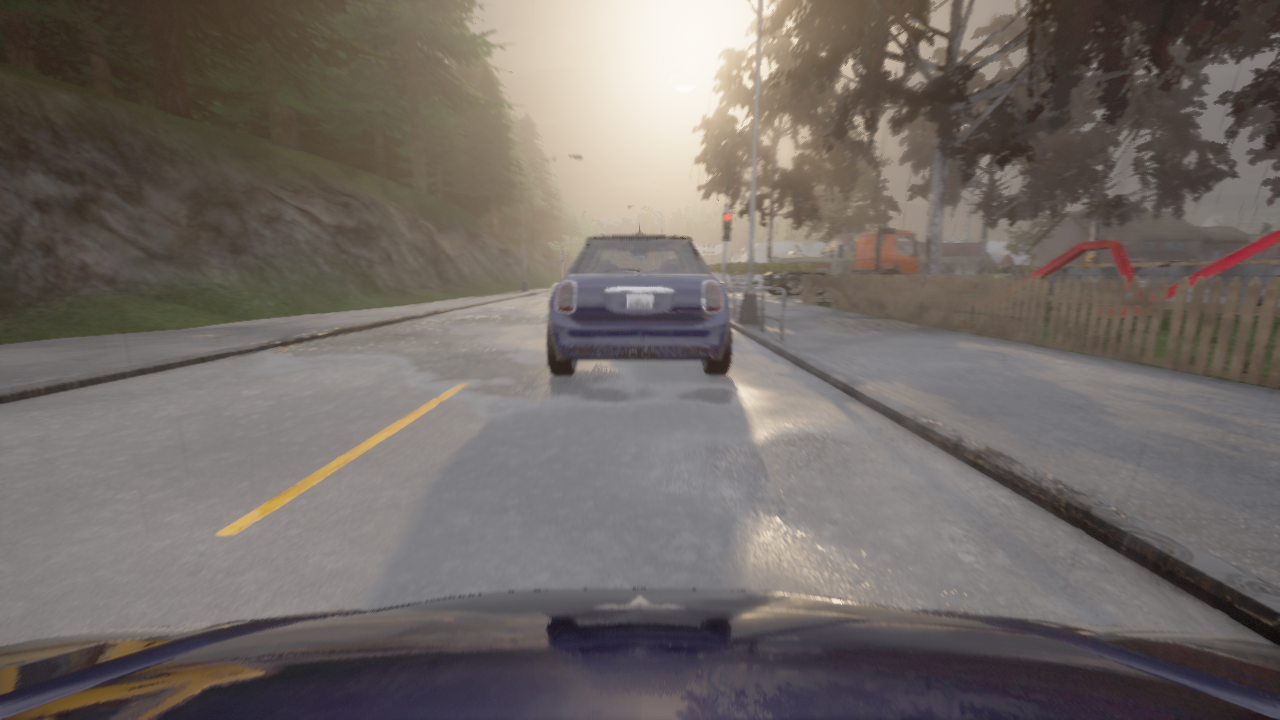cyclist: (0, 588, 1279, 719), (547, 223, 731, 374), (753, 227, 920, 295), (816, 268, 833, 273)
